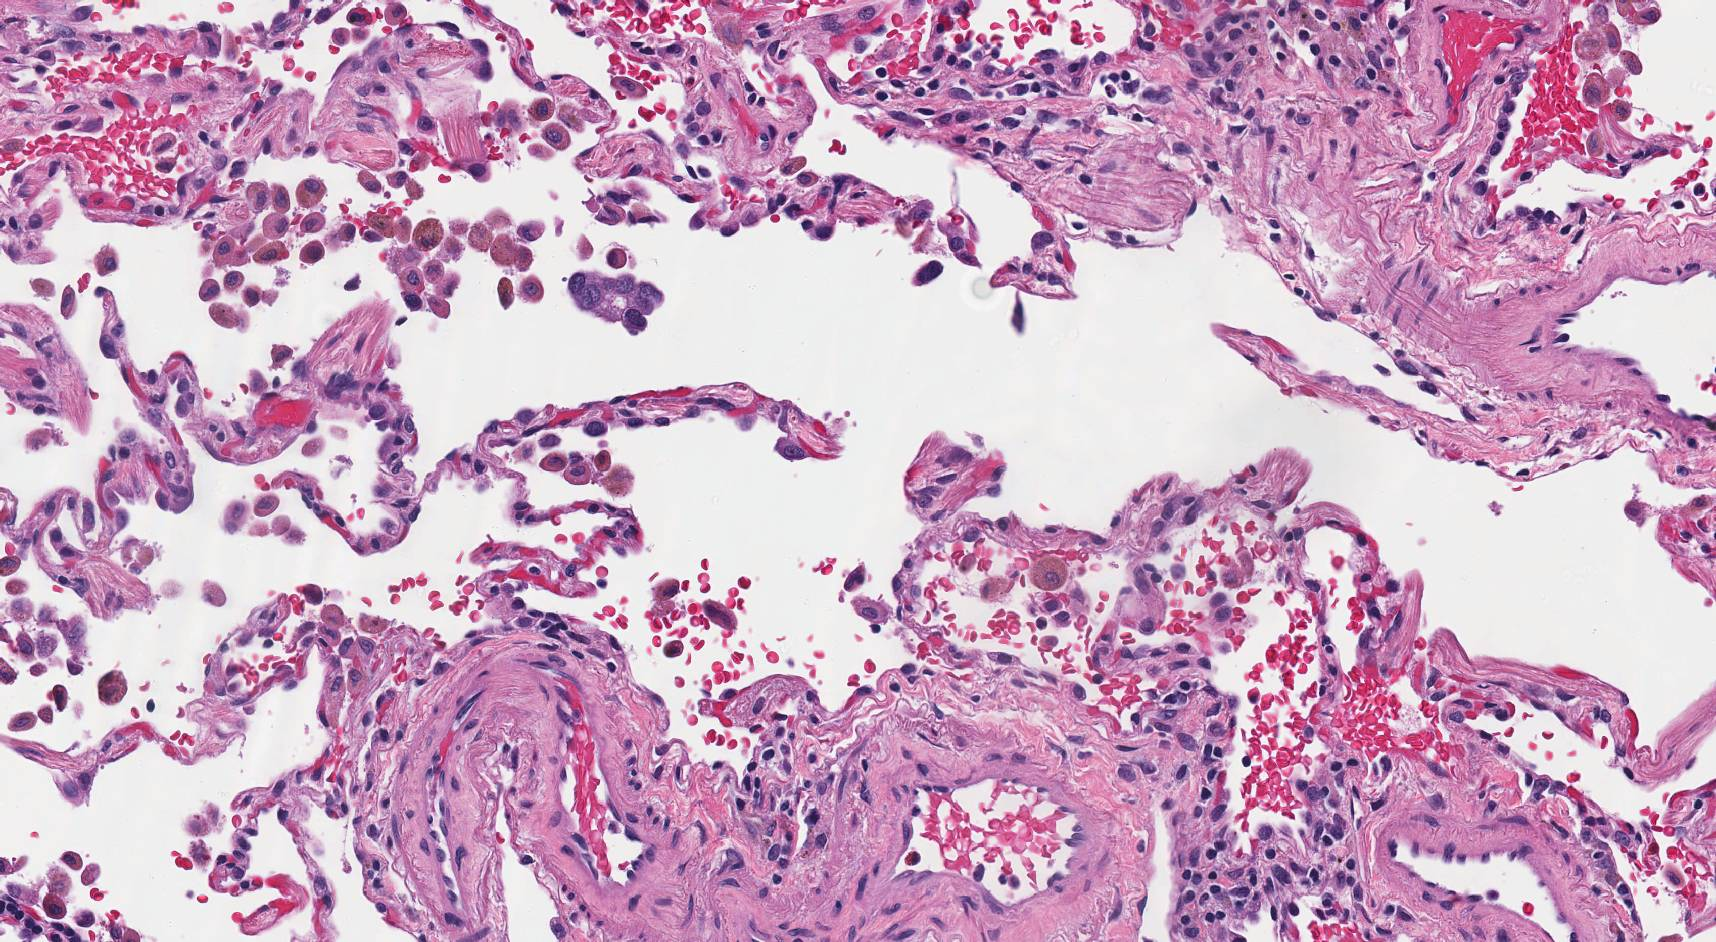stas: (567, 269, 665, 336)
